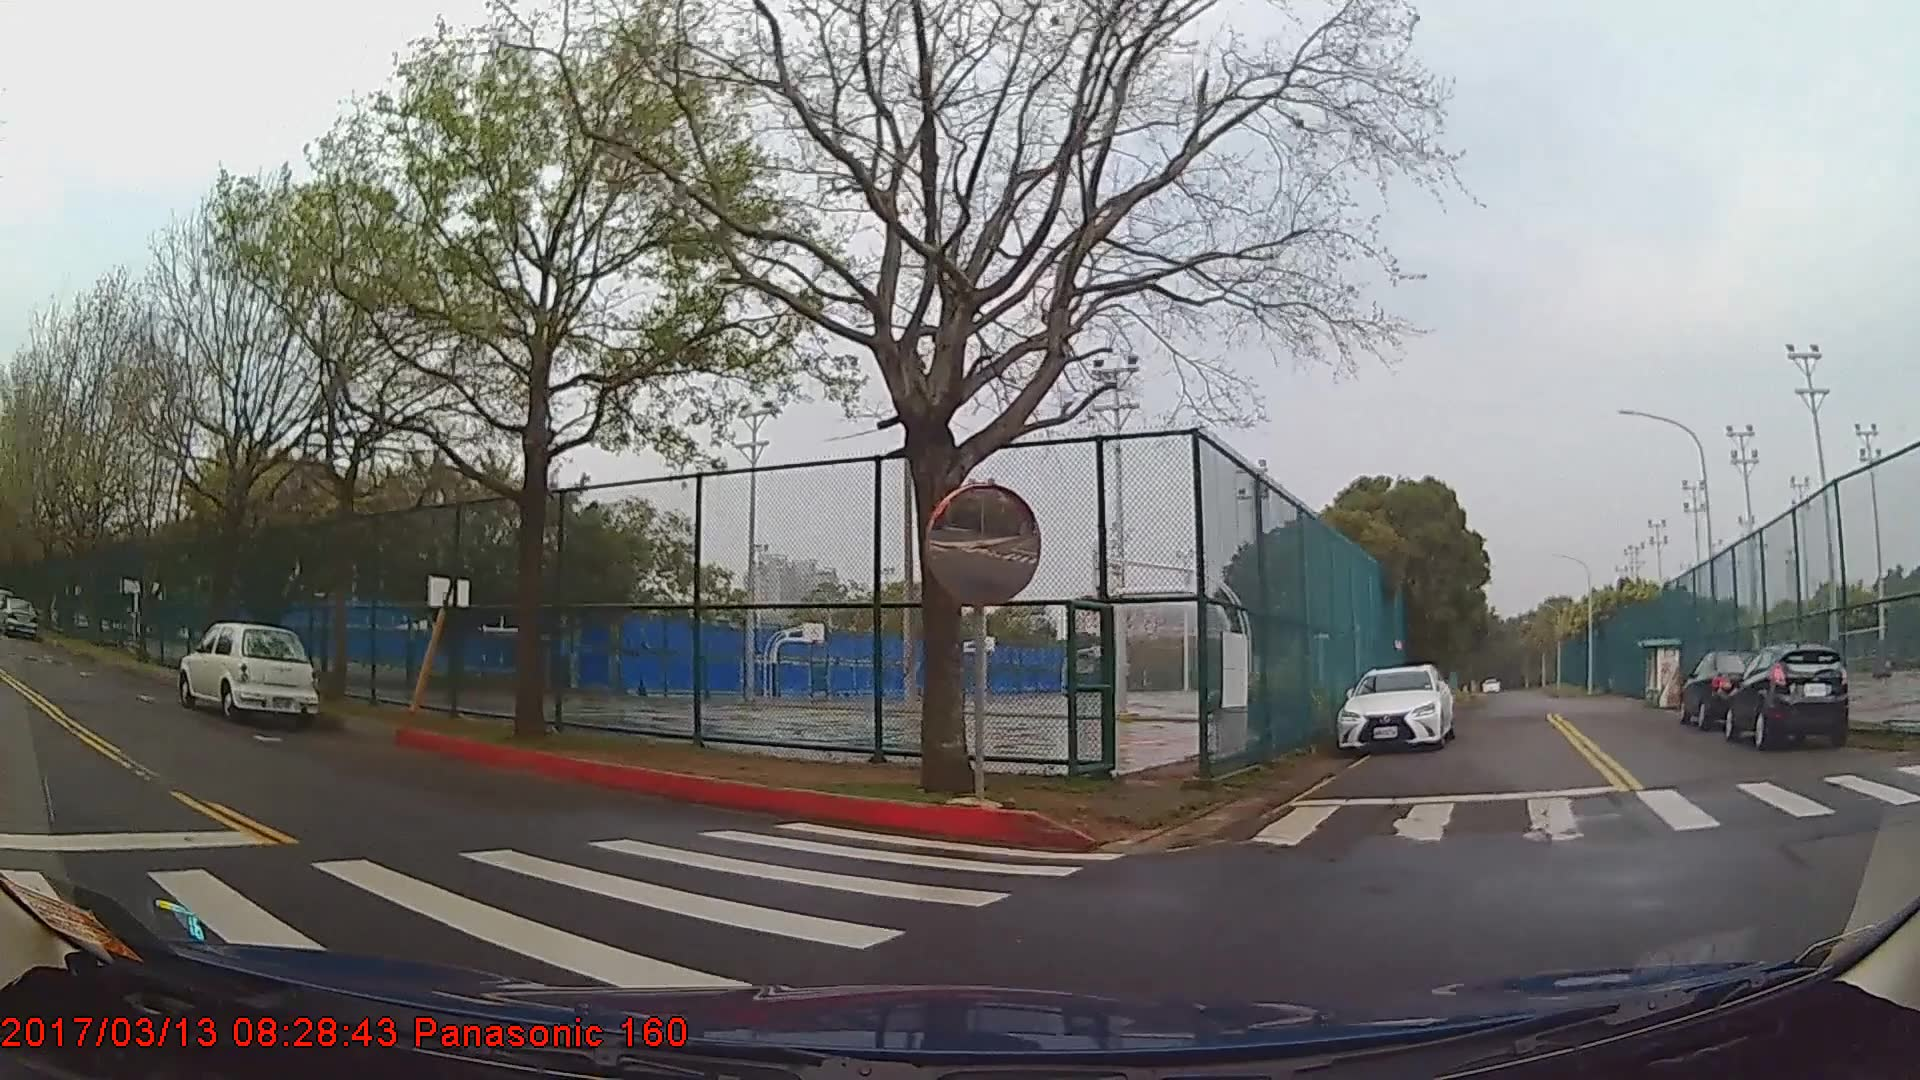vehicle: (175, 624, 322, 724), (1722, 645, 1849, 749), (1335, 662, 1456, 753), (1680, 647, 1772, 727), (0, 600, 40, 644)
